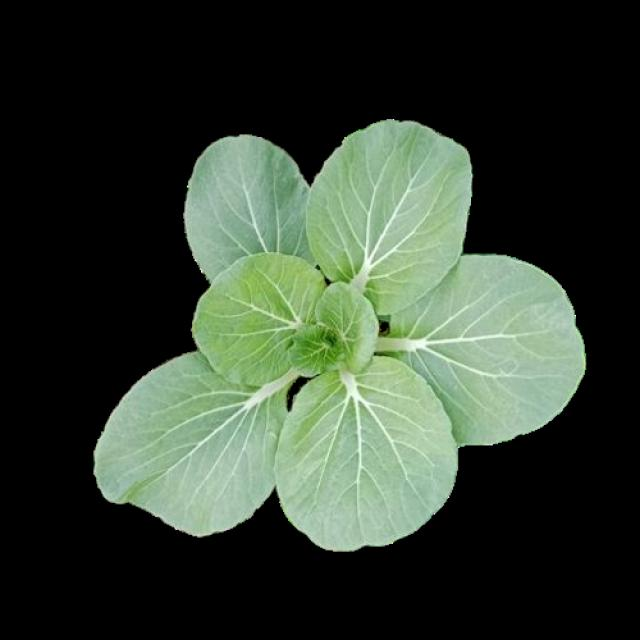healthy: (93, 122, 580, 549)
not-mature: (95, 123, 581, 550)
